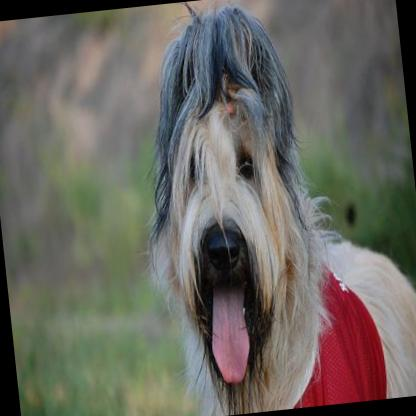briard: (128, 0, 416, 416)
